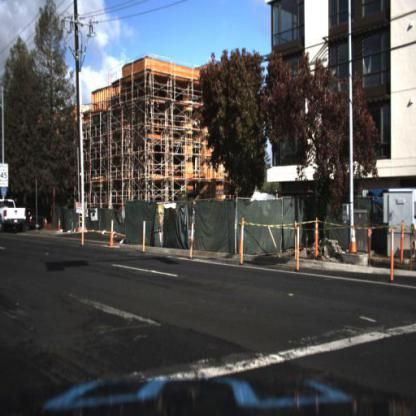car: (1, 196, 28, 233), (26, 204, 46, 230)
